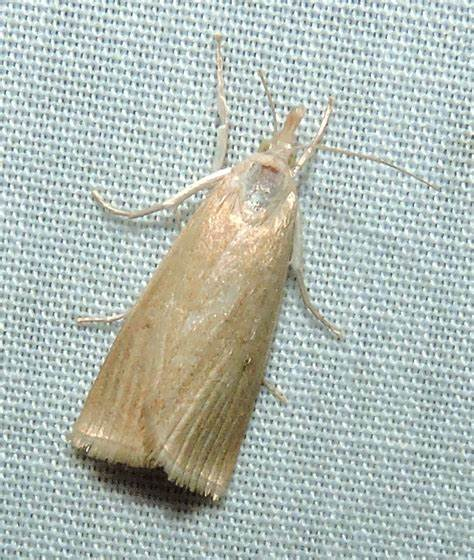Crambidae: (66, 32, 445, 503)
